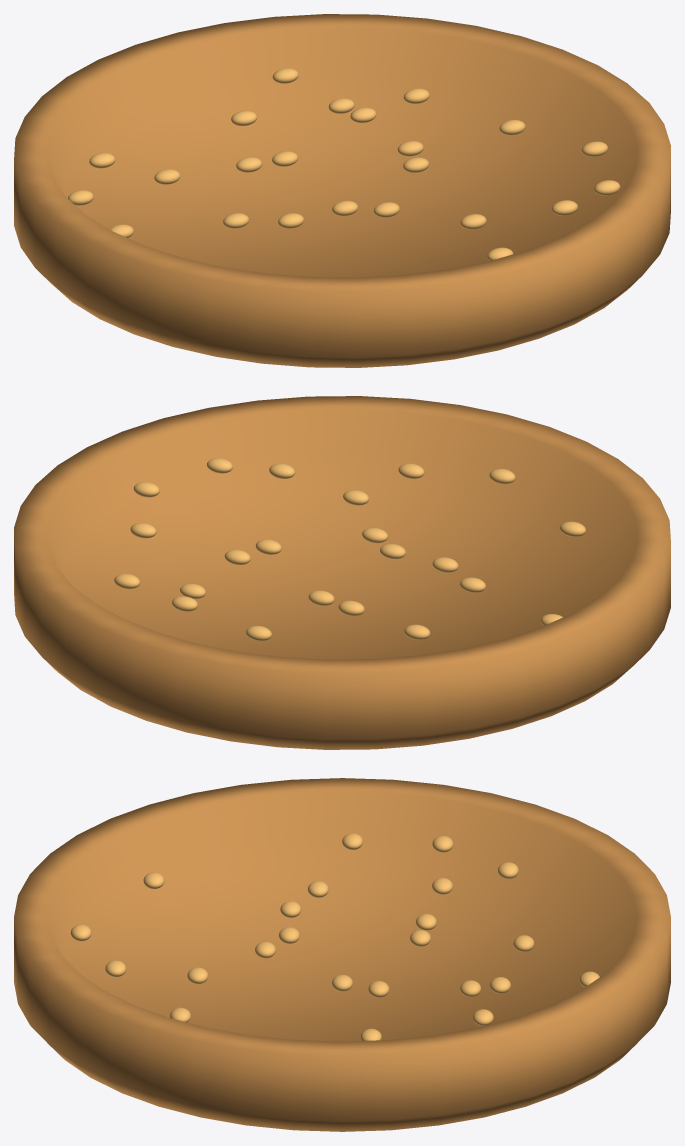
The model's file is cheesecake-base.glb.
The picture shows the model from 3 angles, top to bottom: view 1: azimuth 30°, elevation 25°; view 2: azimuth 150°, elevation 25°; view 3: azimuth 270°, elevation 25°; orthographic projection.
Parts seen in each view (by area): view 1: cheesecake-base_mesh; view 2: cheesecake-base_mesh; view 3: cheesecake-base_mesh.
Part boxes in pixels (bbox=[...]): cheesecake-base_mesh: bbox=[14, 14, 670, 367]; cheesecake-base_mesh: bbox=[14, 396, 670, 749]; cheesecake-base_mesh: bbox=[14, 778, 670, 1131].
Bounding box in the file's own units: 0.295 × 0.0412 × 0.295.
